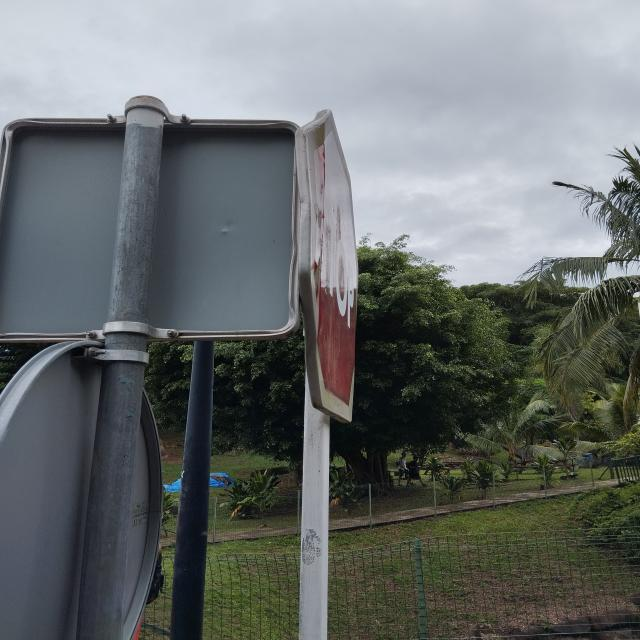Panneau-Stop: (292, 115, 367, 420)
